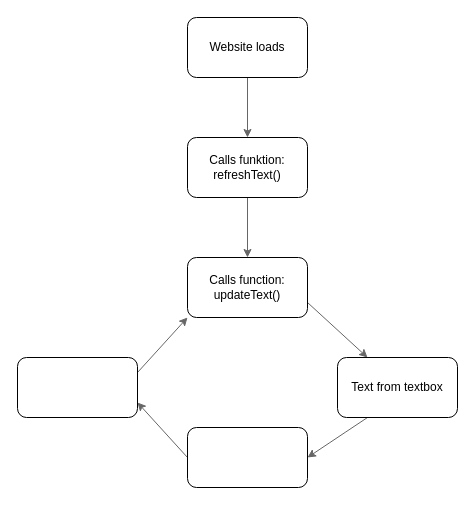
Some shapes in this 475 by 505 pixel diagram are drawn without their labels. Each missing label, with the box of its shape:
Recall function: refreshText() after 50ms: (16, 356, 138, 418)
Show text in screen: (186, 426, 308, 488)
